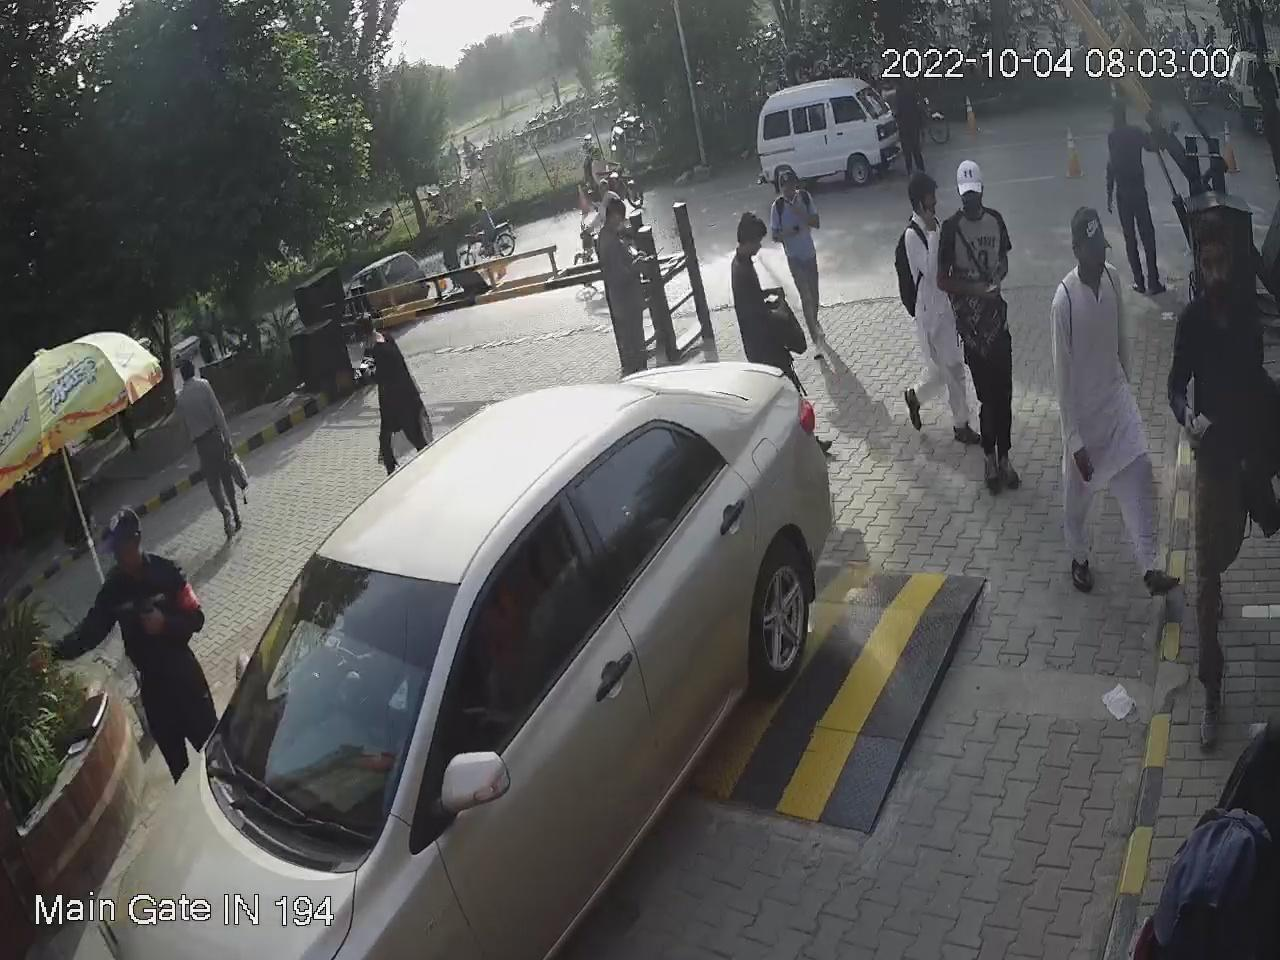windshield: (196, 545, 466, 865)
